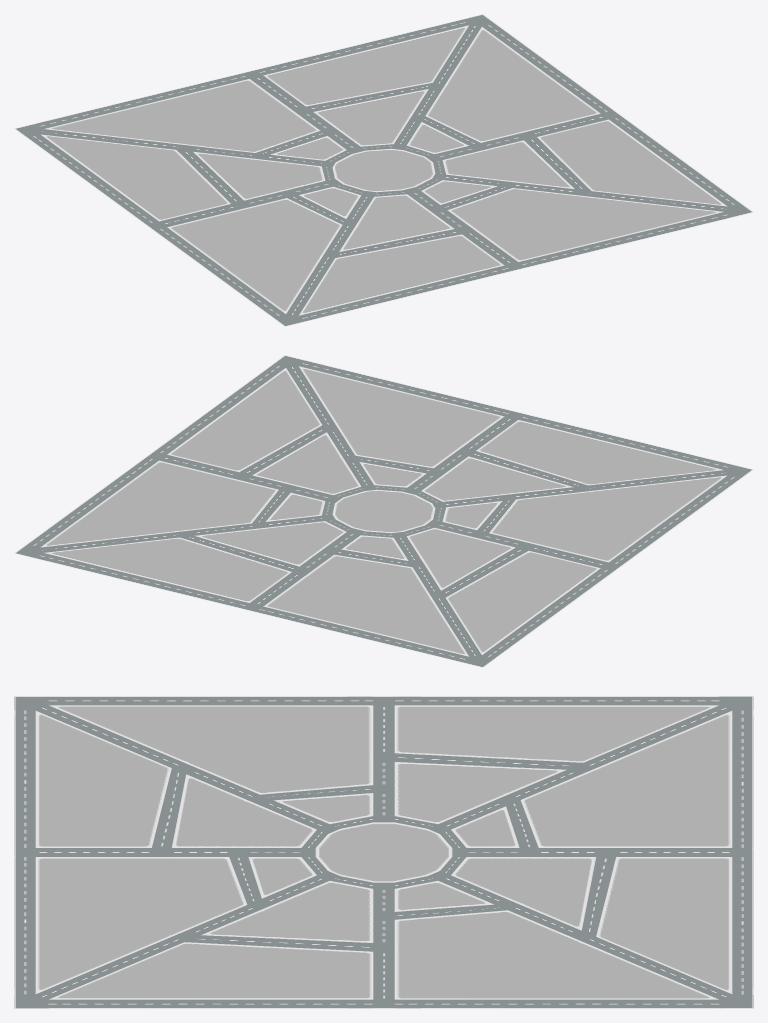
Rendered from city_road_2.fbx.
3 views of the same model, one above another, from view 1: azimuth 30°, elevation 25°; view 2: azimuth 150°, elevation 25°; view 3: azimuth 270°, elevation 25° (orthographic). The views are drawn at different scales.
Visible parts, largest first — view 1: group11; view 2: group11; view 3: group11.
Part boxes in pixels (x1,y1,x2,y2): group11: (14,14,753,326); group11: (14,355,753,667); group11: (14,696,753,1008).
Size of the model in its own units: 2060 by 0 by 2060.
